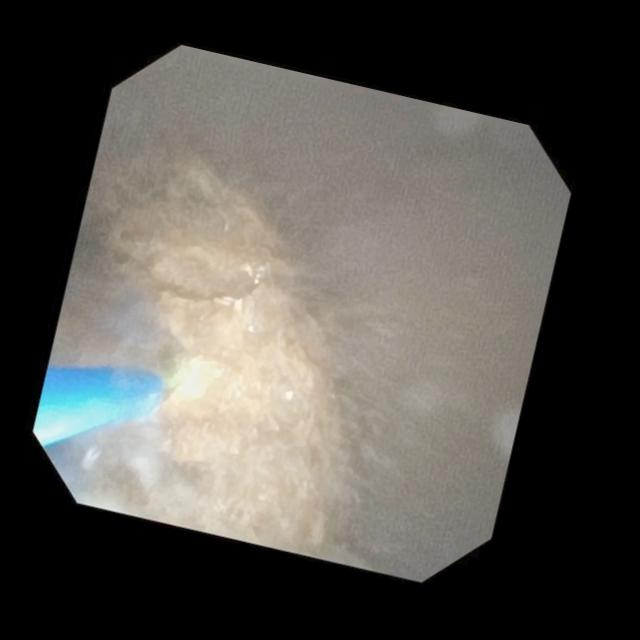laser_dot: (170, 356, 218, 400)
stone-new: (82, 163, 344, 549)
